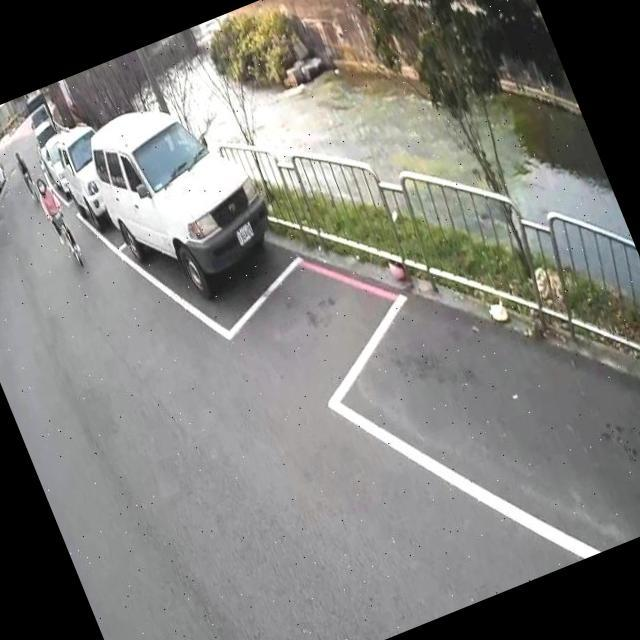person: (30, 170, 81, 255)
